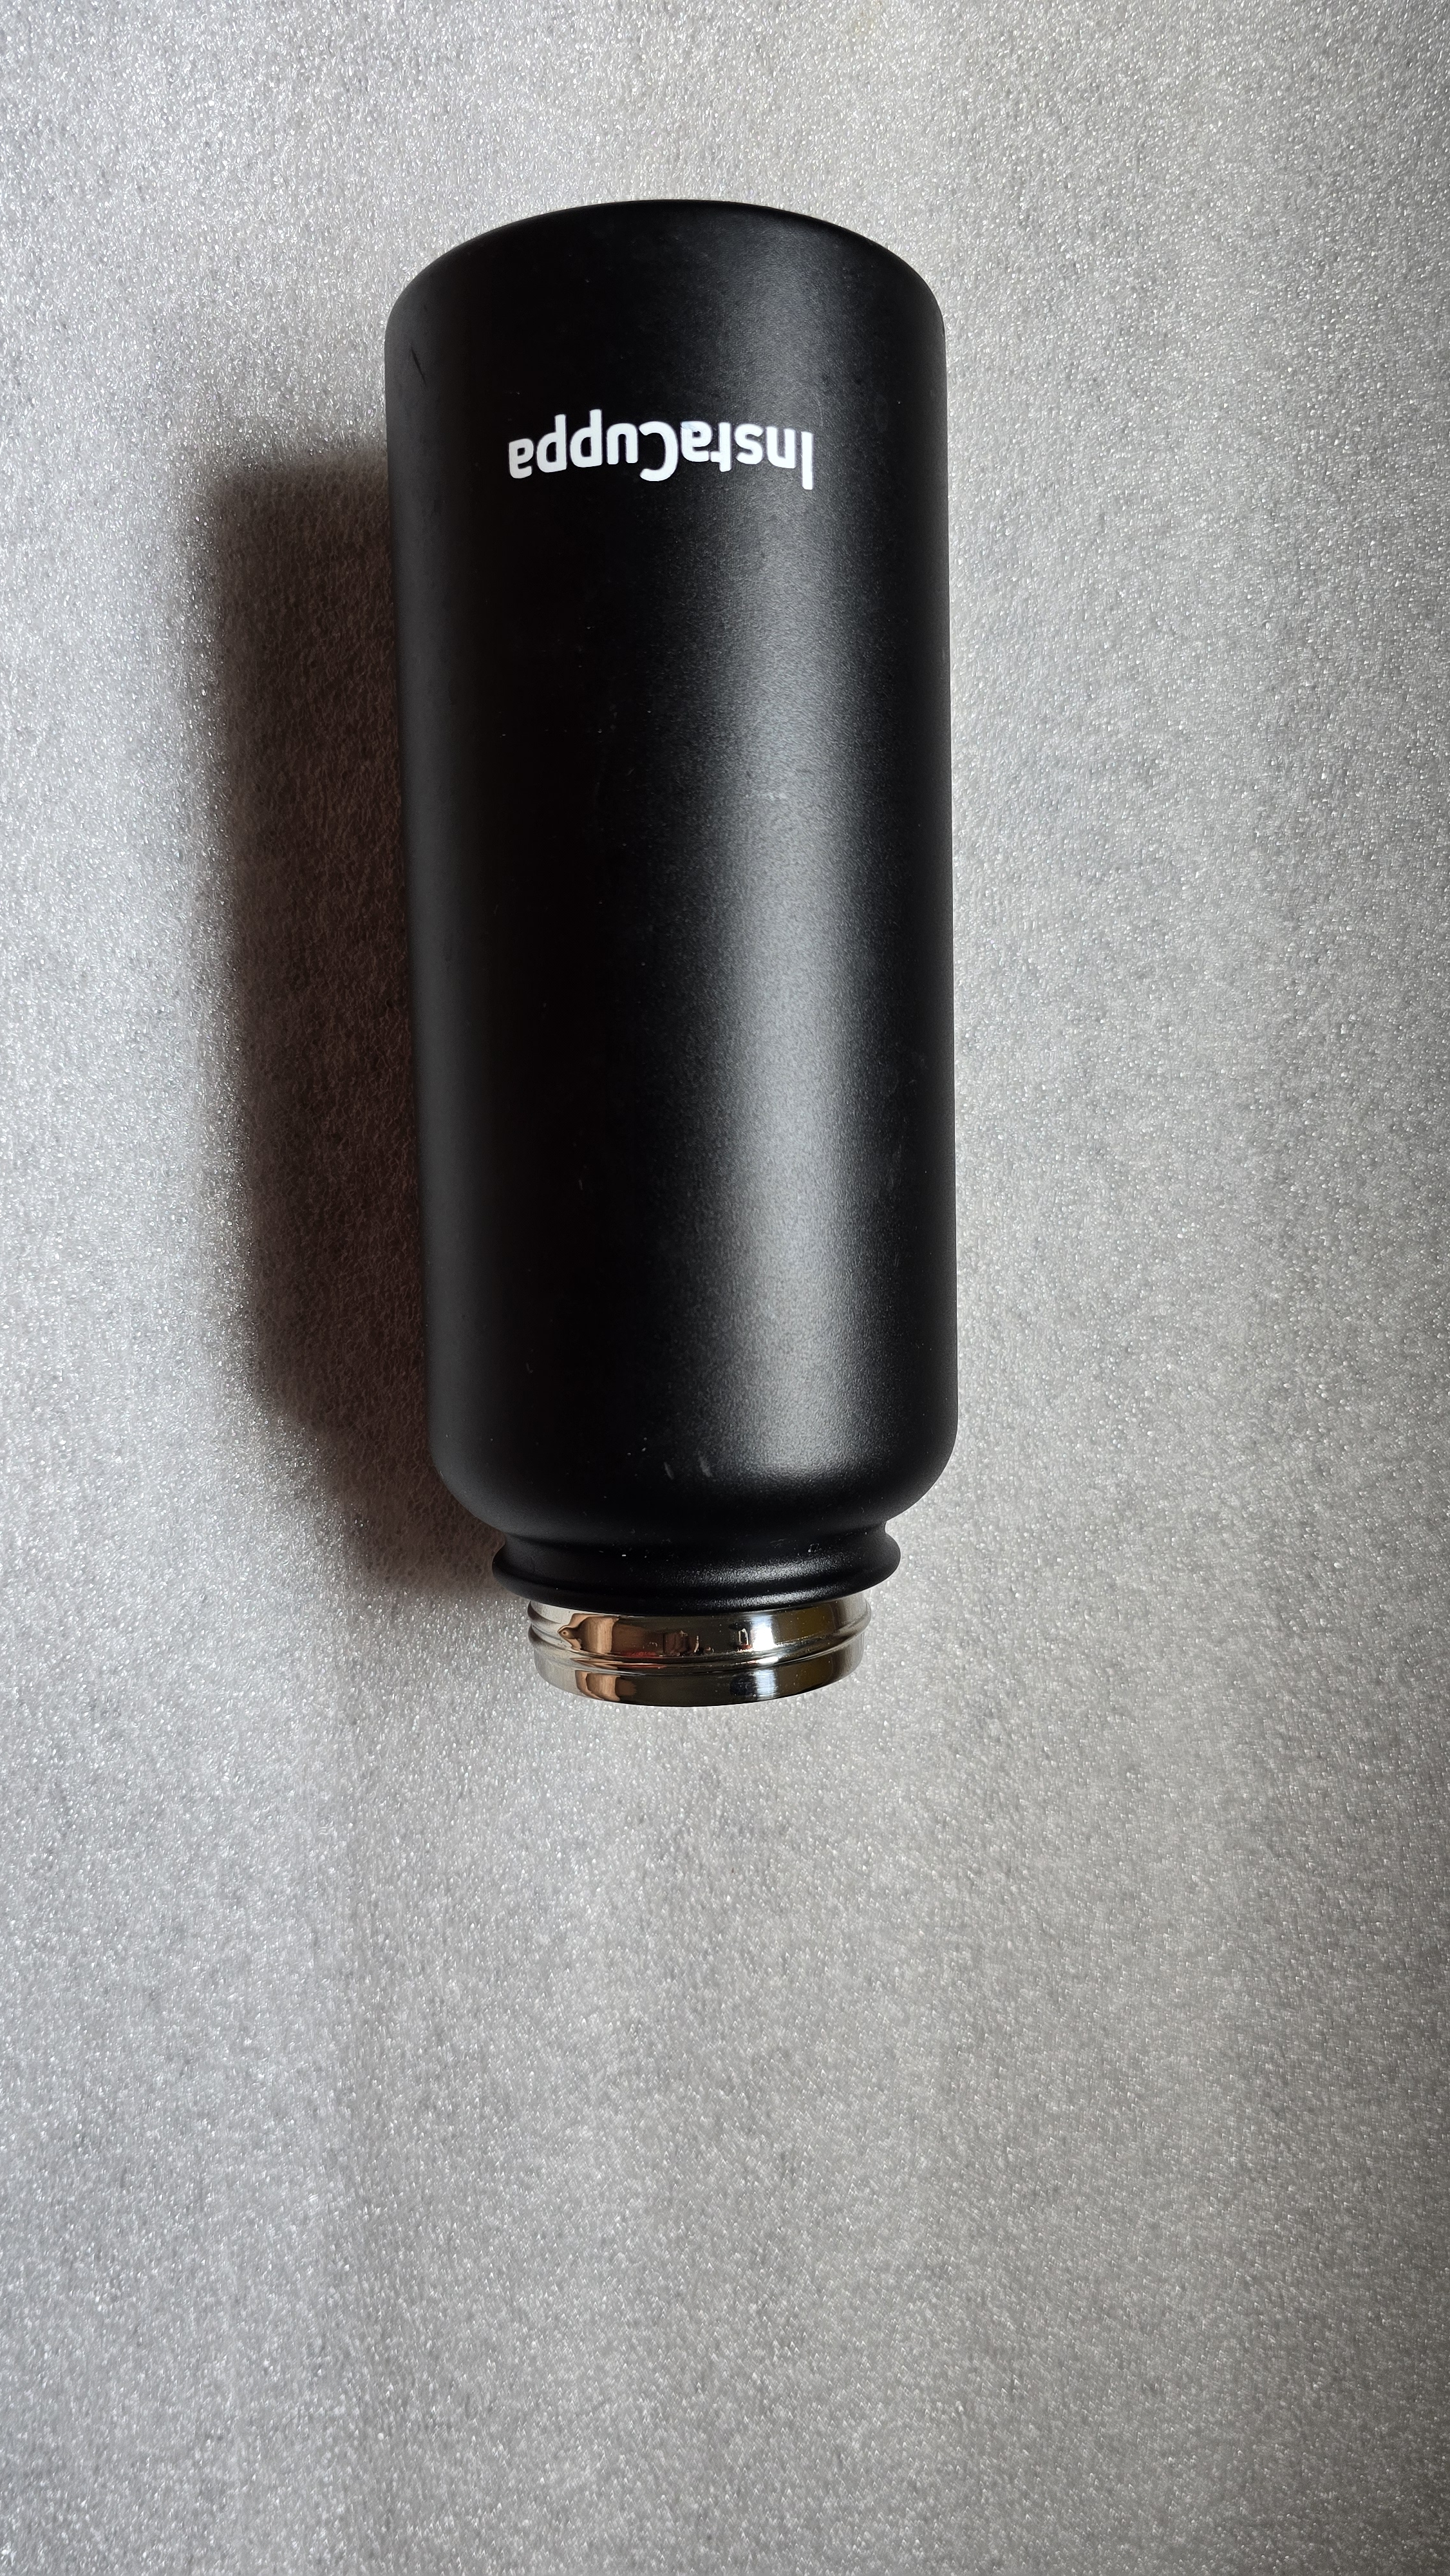bottle: (364, 203, 1040, 1766)
